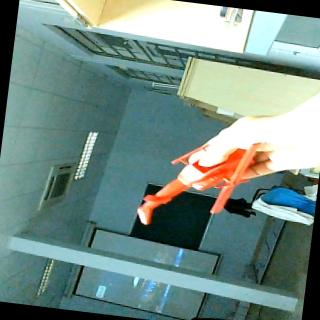Helicopter: (135, 136, 242, 236)
